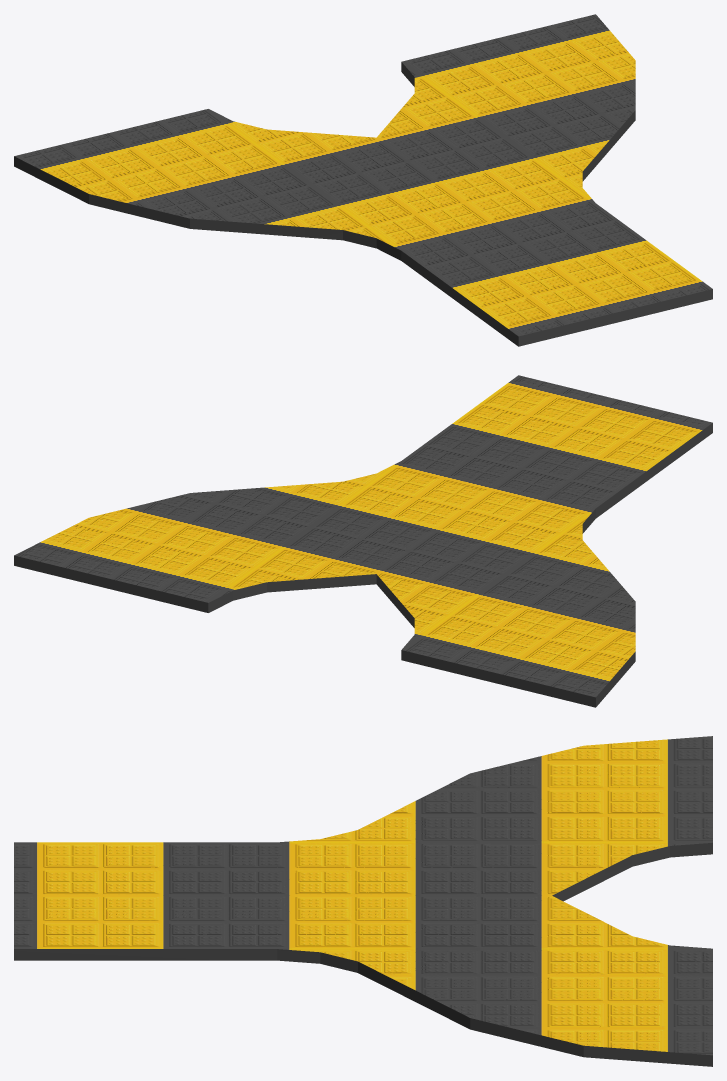
The model's file is split.fbx.
3 renders of one model, top to bottom at view 1: azimuth 30°, elevation 25°; view 2: azimuth 150°, elevation 25°; view 3: azimuth 270°, elevation 25°, orthographic. The views are drawn at different scales.
Parts seen in each view (by area): view 1: split; view 2: split; view 3: split.
Part boxes in pixels (left/top/right/bottom): split: left=14, top=14, right=712, bottom=346; split: left=14, top=375, right=712, bottom=707; split: left=14, top=736, right=712, bottom=1066.
Size of the model in its own units: 5120 by 86.51 by 4737.
